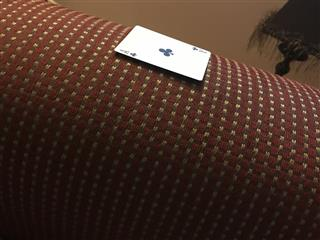AceOfClubs: (113, 24, 211, 81)
